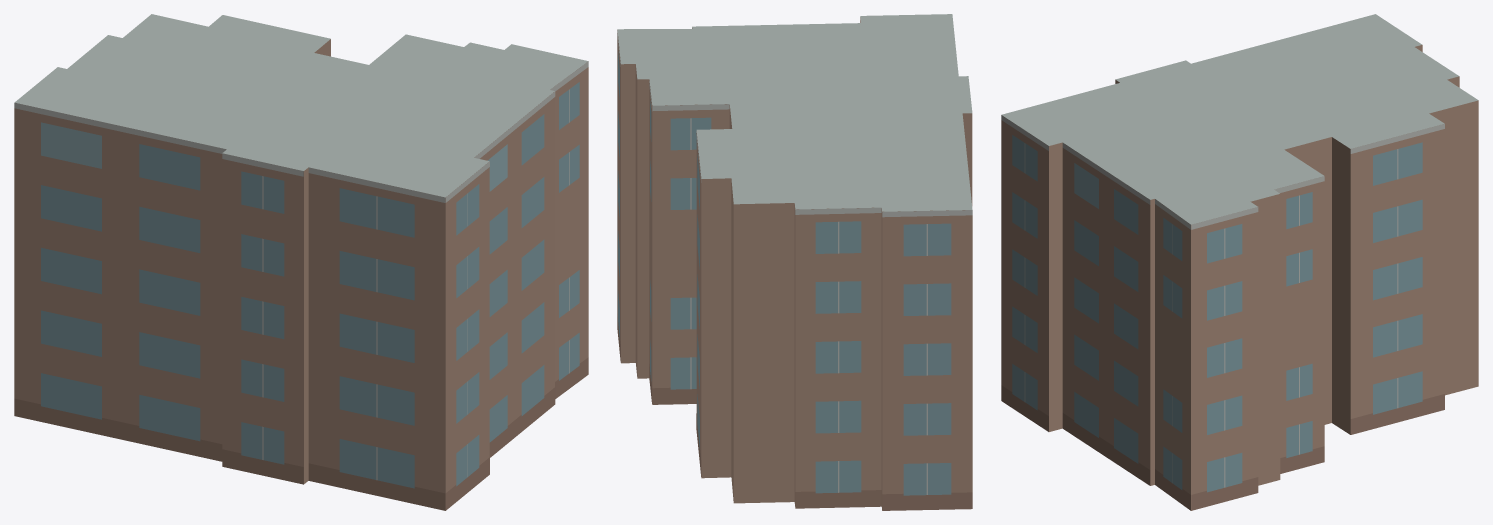
File: survey-upis-32694127.glb
3 renders of one model, left to right at view 1: azimuth 30°, elevation 25°; view 2: azimuth 150°, elevation 25°; view 3: azimuth 270°, elevation 25°, orthographic. The views are drawn at different scales.
Visible parts, largest first — view 1: survey-upis-32694127.tmp; view 2: survey-upis-32694127.tmp; view 3: survey-upis-32694127.tmp.
Boxes of the visible parts, box(x1,y1,x2,y2) form: survey-upis-32694127.tmp: box(14, 14, 588, 510); survey-upis-32694127.tmp: box(617, 14, 972, 510); survey-upis-32694127.tmp: box(1001, 14, 1478, 510).
Bounding box in the file's own units: 21.26 × 13.45 × 20.35.
